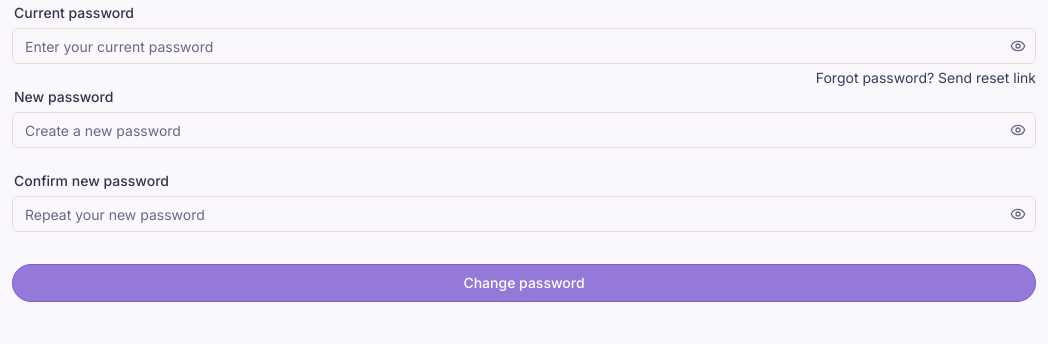
Test: ChangePasswordForm › shows a current-password error when the API rejects the current password
Type "old-password" into the password field labelled "Current password" at (524, 46), box [12,28,1036,64]
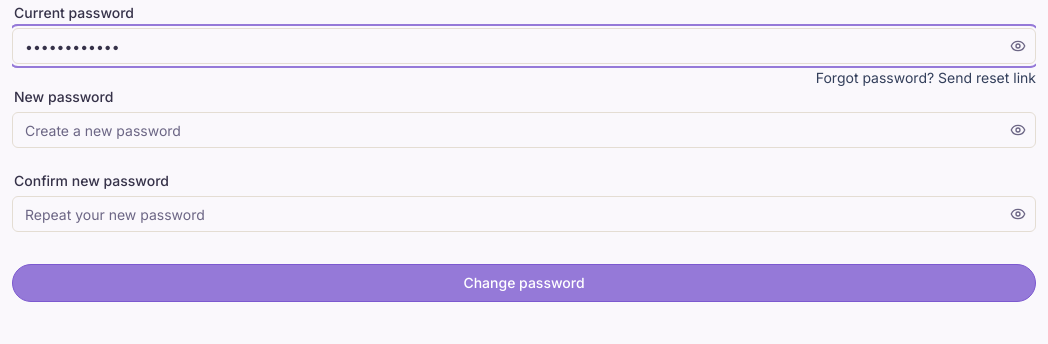
Type "Aa1!aaaa" into the password field labelled "New password" at (524, 130), box [12,112,1036,148]
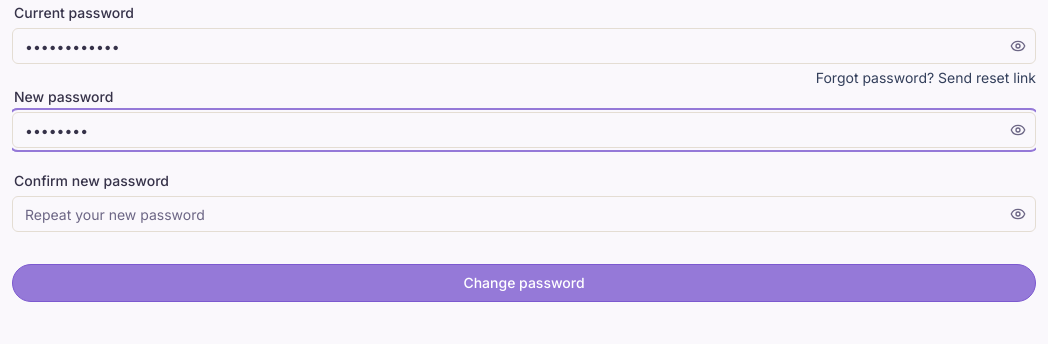
Type "Aa1!aaaa" into the password field labelled "Confirm new password" at (524, 214), box [12,196,1036,232]
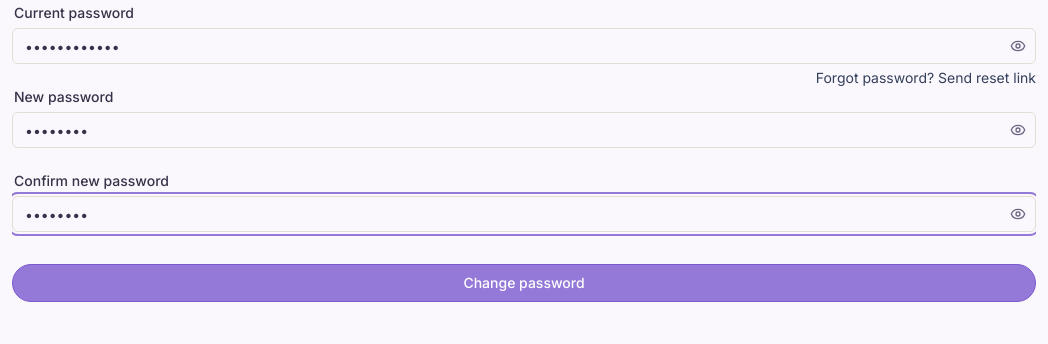
Click the button "Change password" at (524, 283), box [12,264,1036,302]
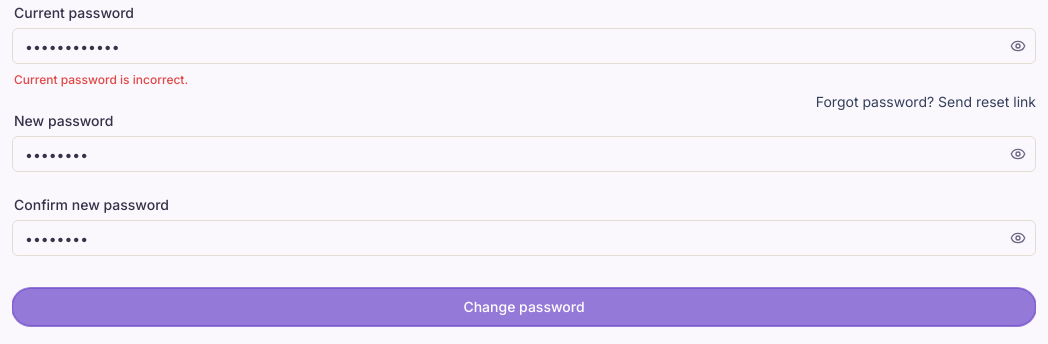
Expected: the text "Current password is incorrect." is shown, [14,72,188,87]
